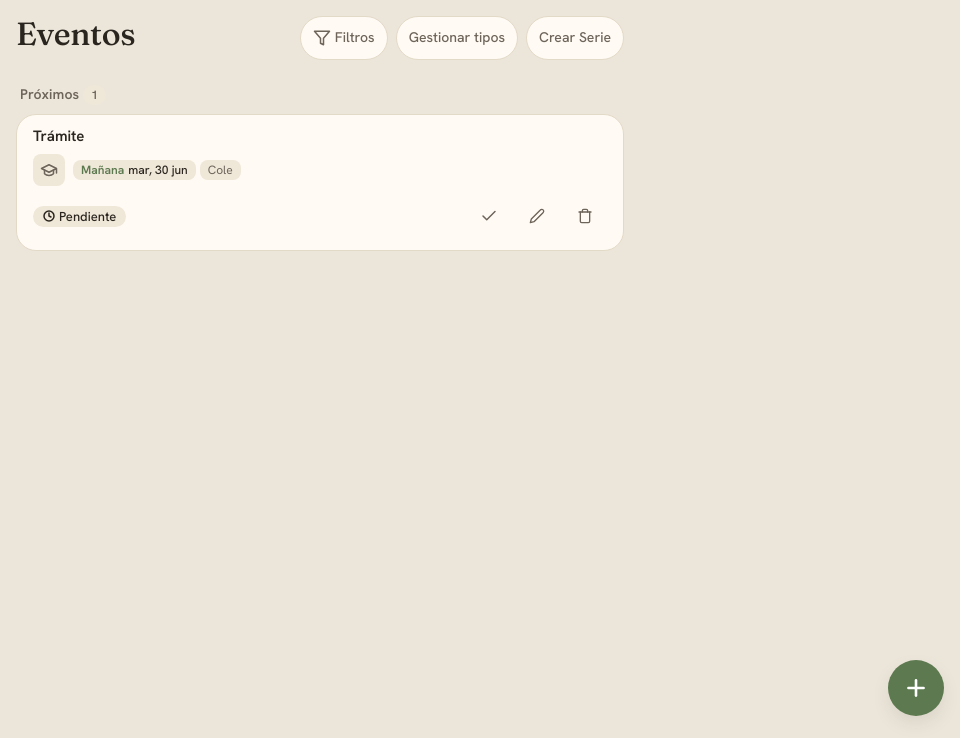
Test case: EventosPage — borrado persistente (reciente borrado) › permite limpiar manualmente la sección "Reciente borrado"
Expected: the text "Trámite" is shown, x1=33 y1=126 x2=84 y2=146
Click the button named "Borrar Trámite" at x=585, y=216, box x1=563 y1=194 x2=607 y2=238
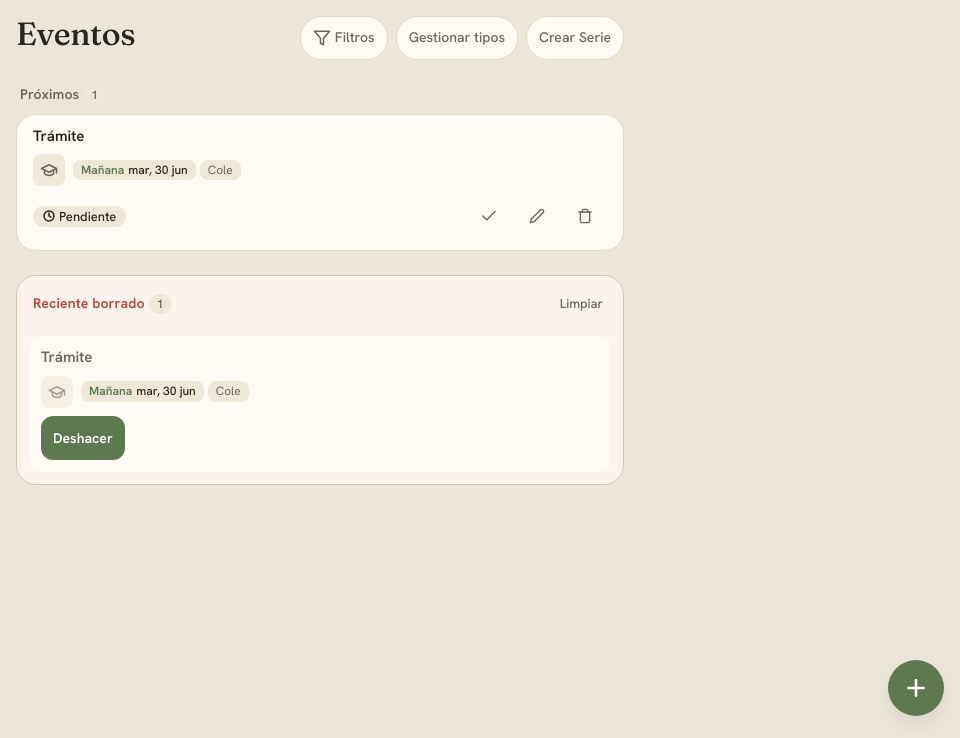
Expected: the heading "Reciente borrado 1" is shown, x1=29 y1=293 x2=176 y2=315
Expected: the button "Limpiar" is shown
Al hacer clic, la sección desaparece
Click the button "Limpiar" at x=581, y=304, box x1=552 y1=288 x2=611 y2=320
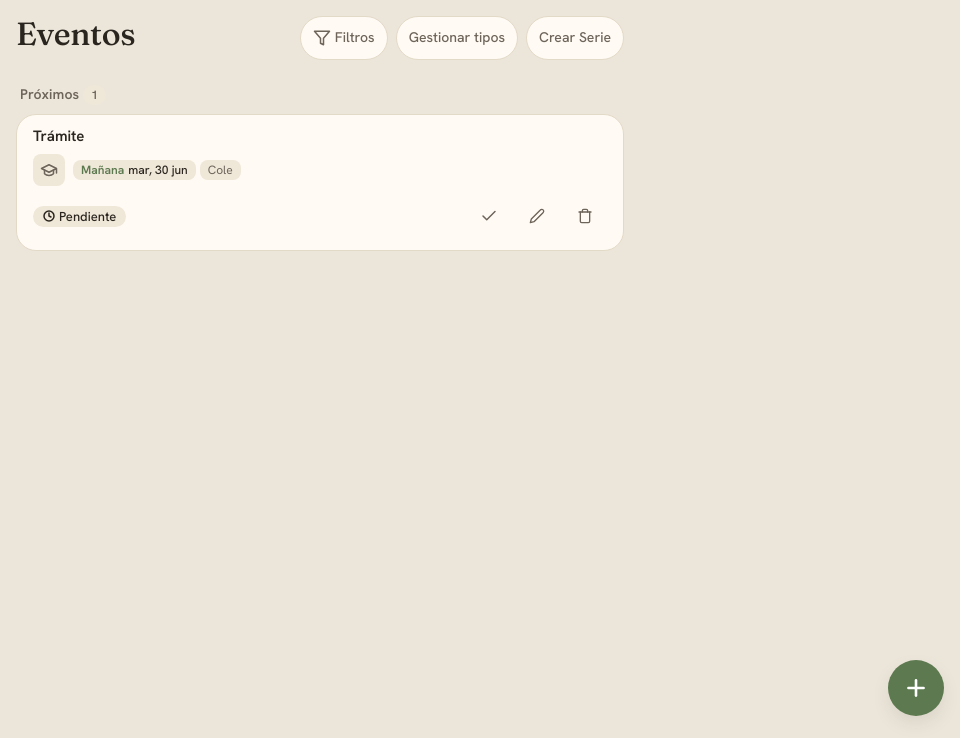
Expected: the heading "Reciente borrado" is gone
